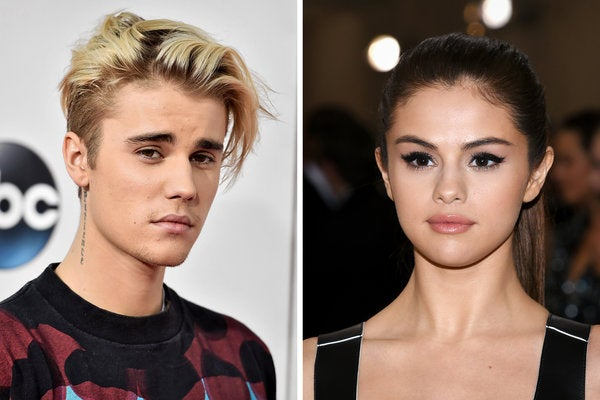NoMask: (393, 128, 521, 267), (111, 124, 221, 263)
